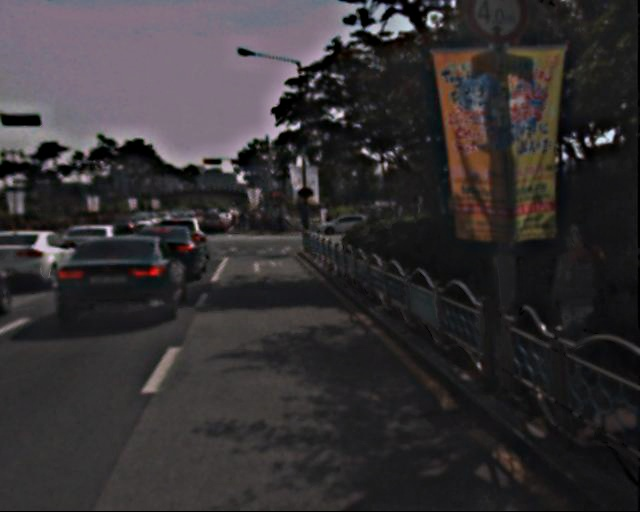person: (543, 222, 612, 382)
